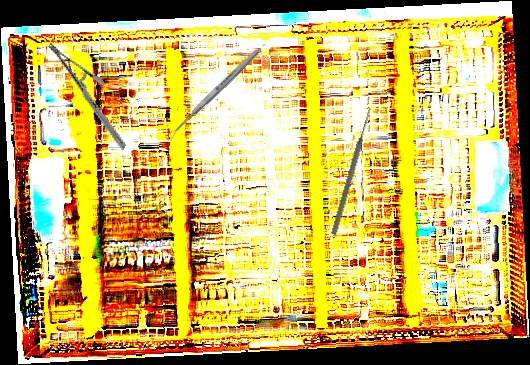Needle Holder: (21, 41, 153, 151)
Pusher: (329, 106, 375, 236)
Surgical Spoon: (163, 47, 261, 143)
